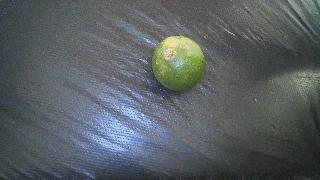DESECHO: (152, 36, 205, 92)
